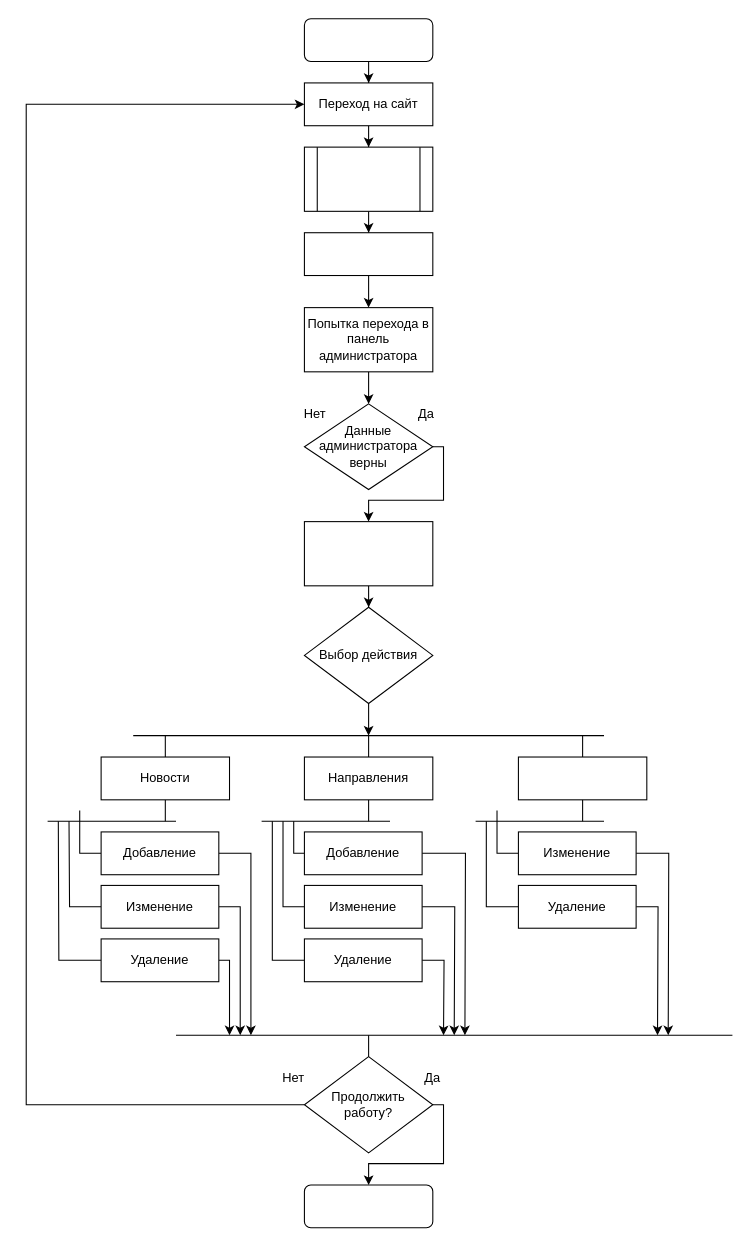
The diagram is 752 pixels wide and 1247 high, and some of its shapes have lost their labels. The centre of each missing label's shape, as x and y in pixels:
"Взаимодействие с интерактивными элементами" goes at point (368, 178).
"Заинтересовавшиеся пользователи" goes at point (582, 778).
"Конец" goes at point (368, 1206).
"Начало" goes at point (368, 40).
"Отправка информации для обратной связи" goes at point (368, 254).
"Переход на страницу администратора" goes at point (368, 553).
